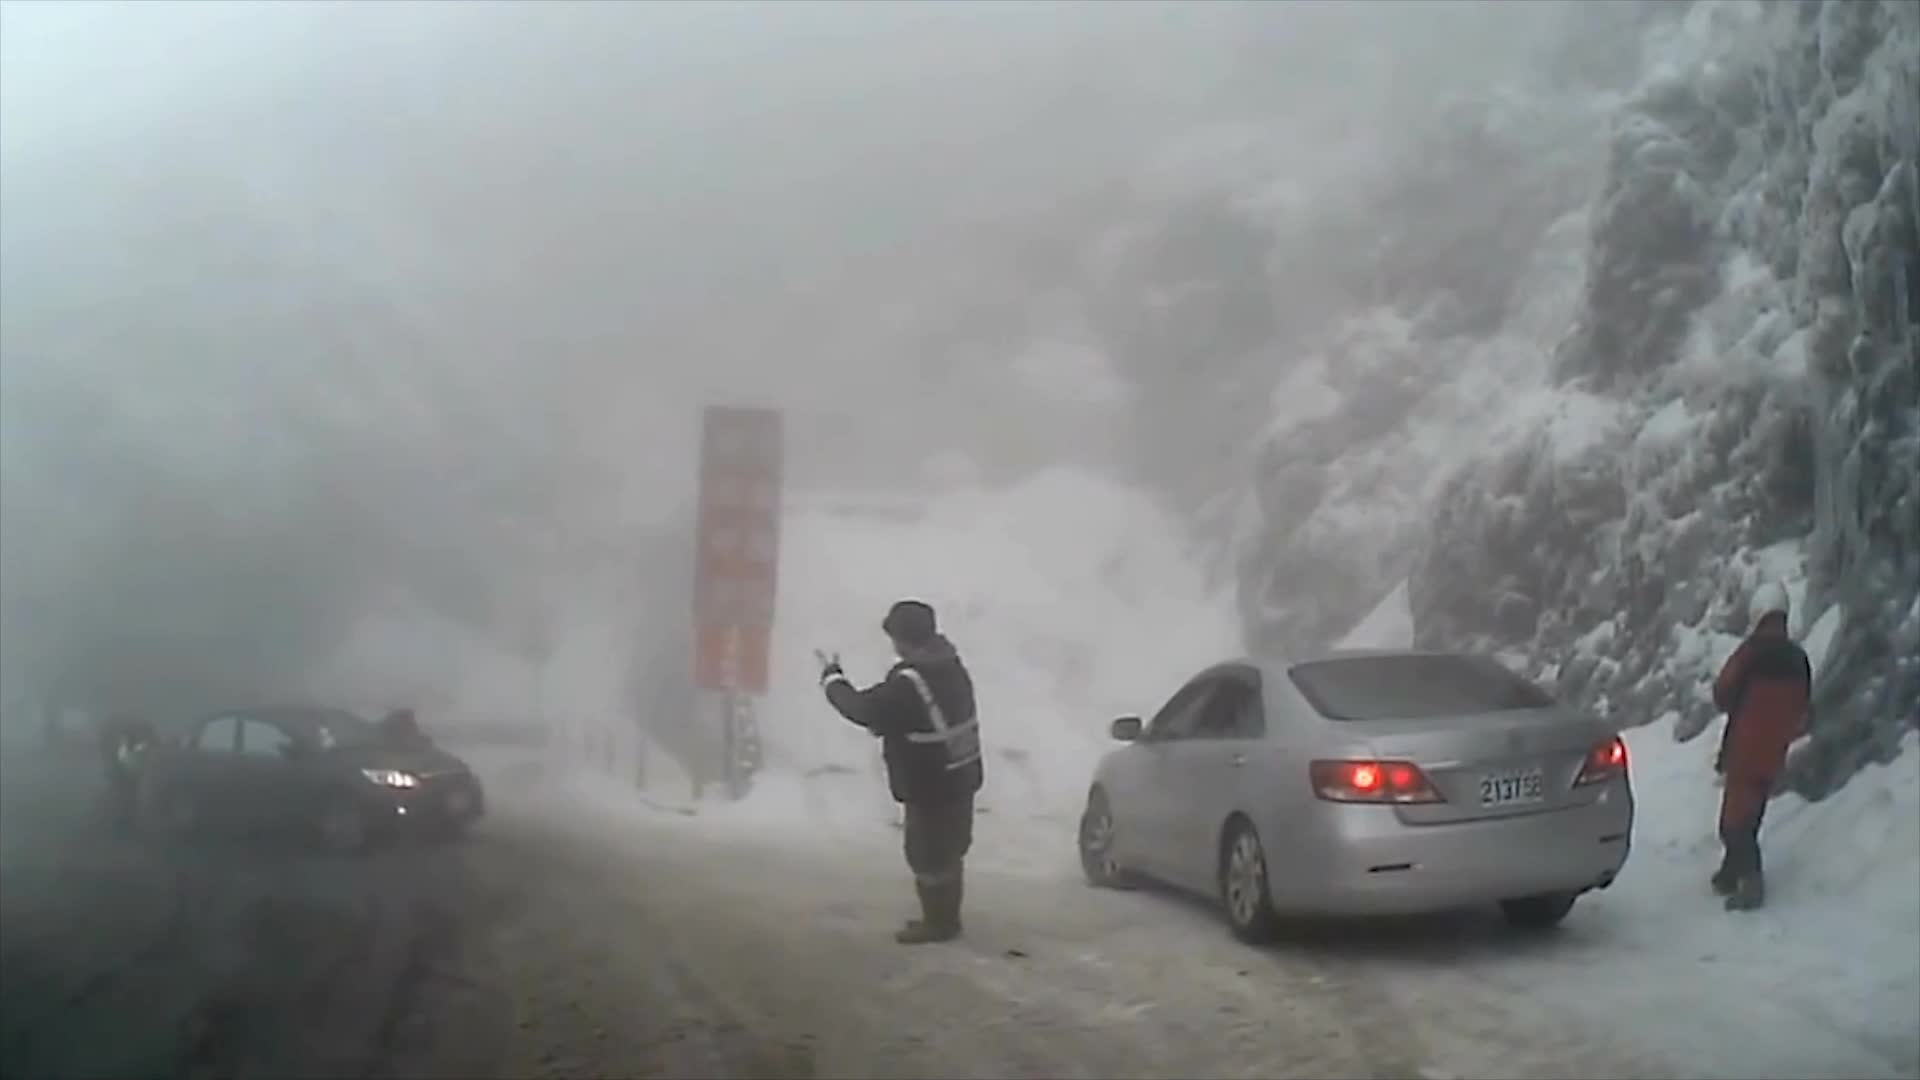pedestrian: (812, 599, 992, 945), (1711, 582, 1821, 908)
vehicle: (1077, 649, 1636, 945), (144, 707, 486, 866)
